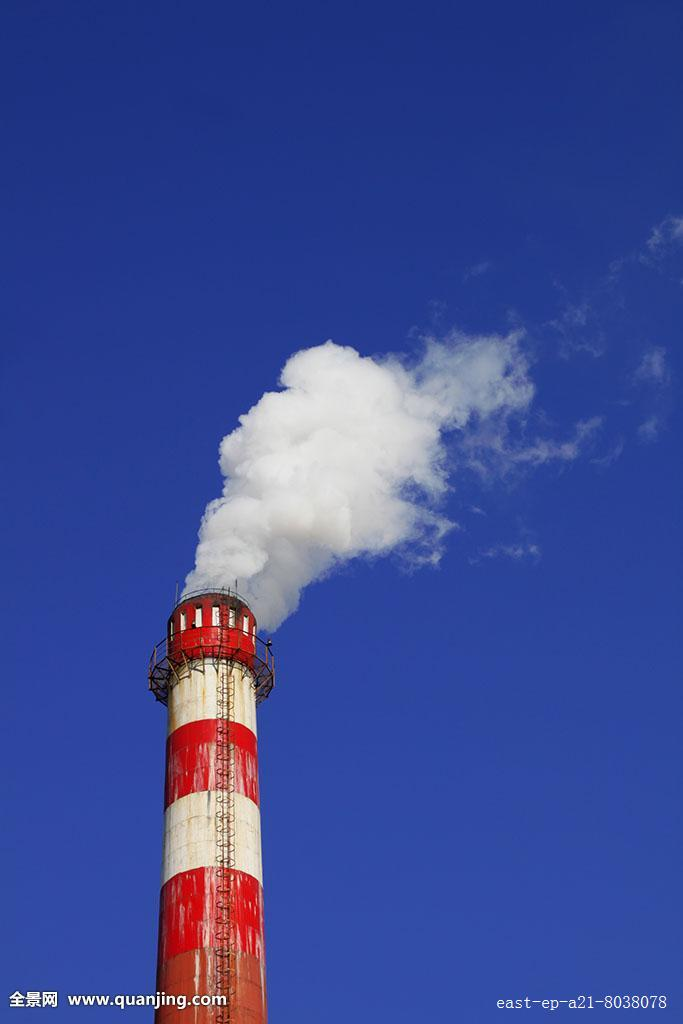dust: (172, 336, 447, 621)
